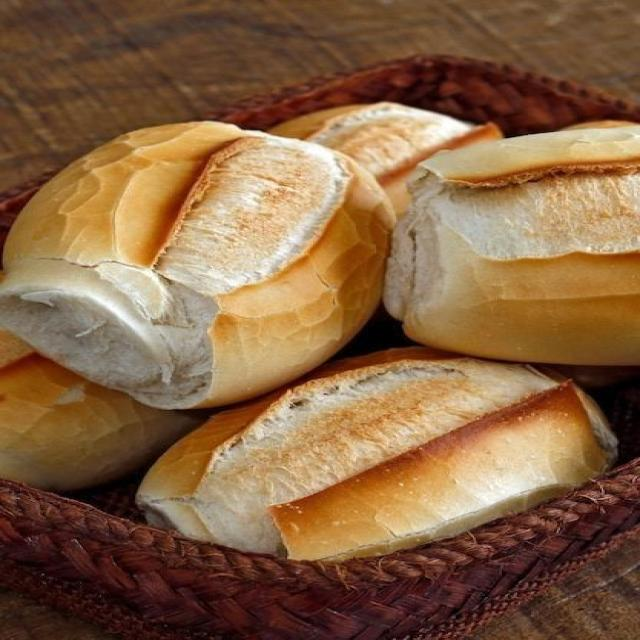bread: (0, 122, 394, 408), (137, 348, 615, 559), (386, 126, 639, 364), (0, 332, 202, 490), (271, 103, 501, 213), (564, 120, 638, 129)
